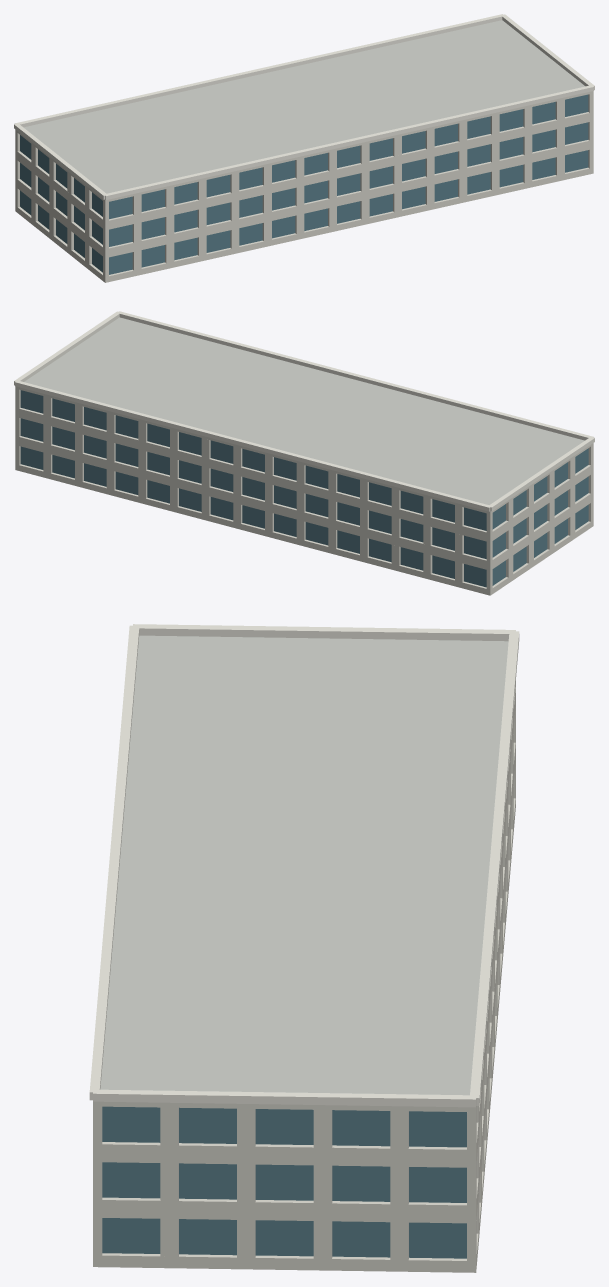
Rendered from sb_569007917.far.glb.
3 renders of one model, top to bottom at view 1: azimuth 30°, elevation 25°; view 2: azimuth 150°, elevation 25°; view 3: azimuth 270°, elevation 25°, orthographic. The views are drawn at different scales.
Parts seen in each view (by area): view 1: roof, wall, glass, trim; view 2: roof, wall, glass, trim; view 3: roof, wall, glass, trim.
Boxes of the visible parts, bbox=[...] form: roof: bbox=[24, 20, 585, 193]; wall: bbox=[15, 91, 593, 282]; glass: bbox=[20, 94, 588, 274]; trim: bbox=[14, 14, 594, 199]; roof: bbox=[24, 317, 584, 504]; wall: bbox=[15, 386, 593, 595]; glass: bbox=[20, 390, 588, 587]; trim: bbox=[14, 311, 594, 511]; roof: bbox=[100, 635, 508, 1095]; wall: bbox=[93, 681, 515, 1272]; glass: bbox=[102, 1106, 466, 1258]; trim: bbox=[89, 624, 519, 1107].
Size of the model in its own units: 56.83 by 9.74 by 21.71.
